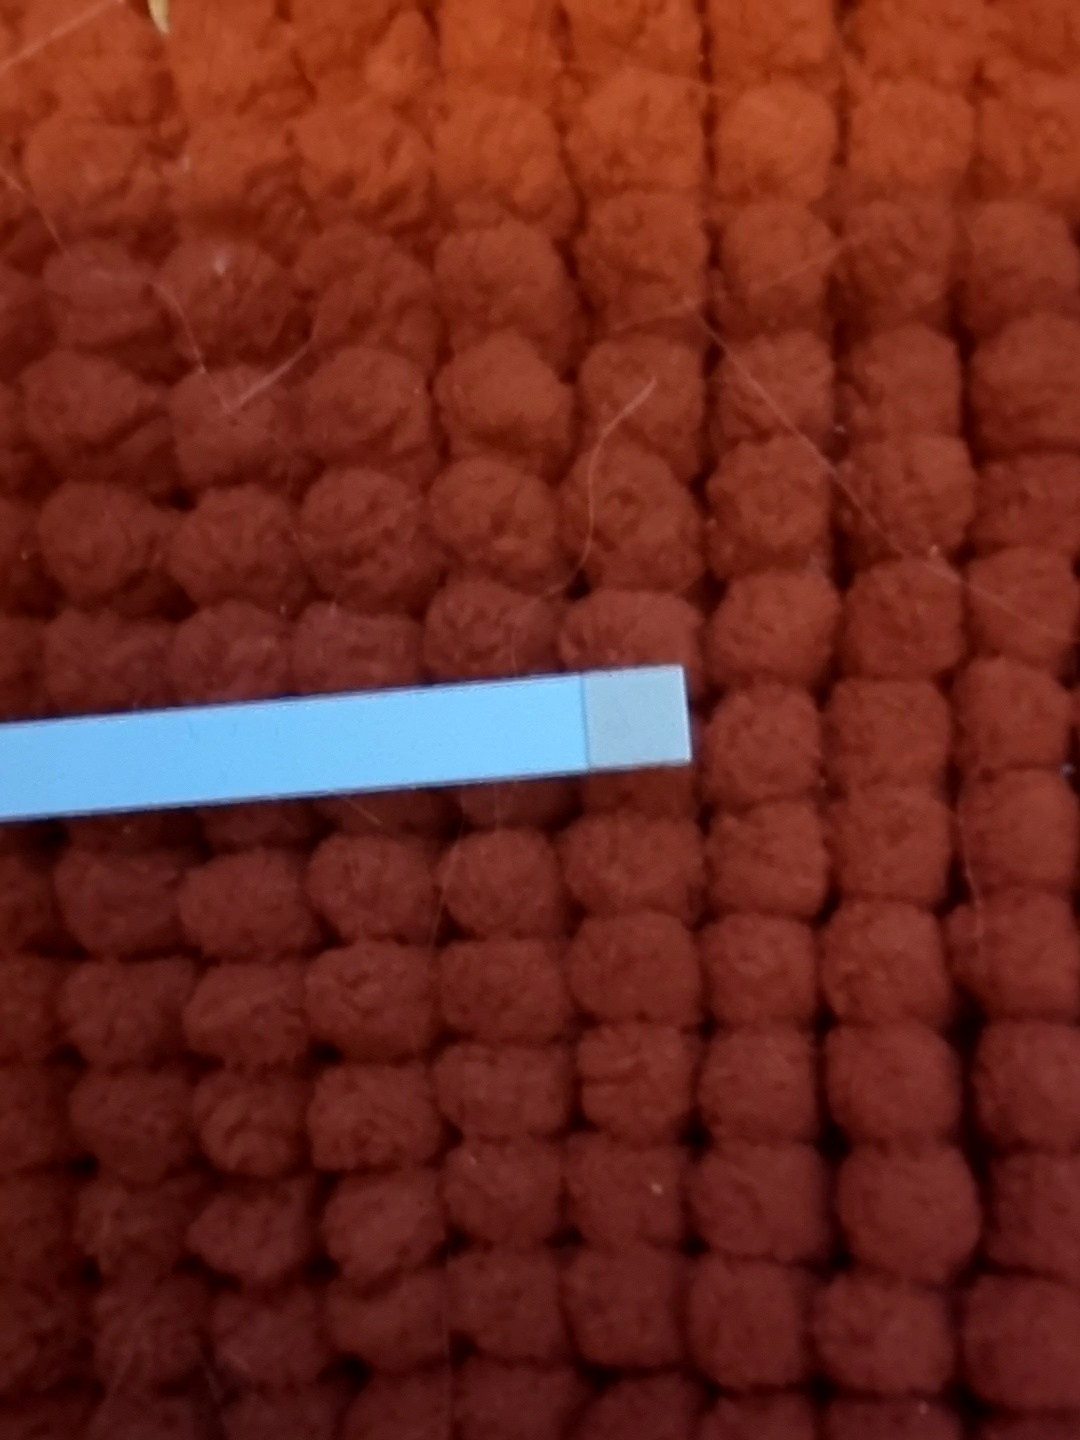keto-tip: (575, 661, 698, 780)
